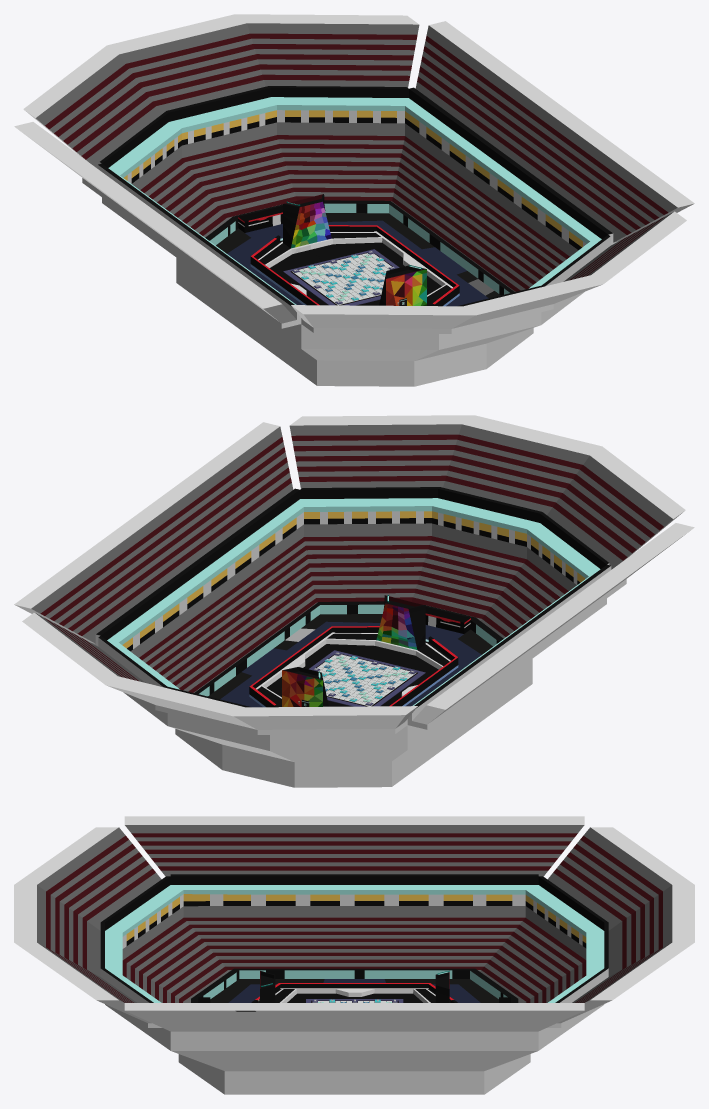
Rendered from board_new.fbx.
3 views of the same model, one above another, from view 1: azimuth 30°, elevation 25°; view 2: azimuth 150°, elevation 25°; view 3: azimuth 270°, elevation 25° (orthographic). The views are drawn at different scales.
Parts seen in each view (by area): view 1: Cube.000; view 2: Cube.000; view 3: Cube.000.
Part boxes in pixels (x1,y1,x2,y2): Cube.000: (14,14,694,386); Cube.000: (14,415,694,787); Cube.000: (14,816,694,1094).
Bounding box in the file's own units: 3032 × 962 × 4488.
